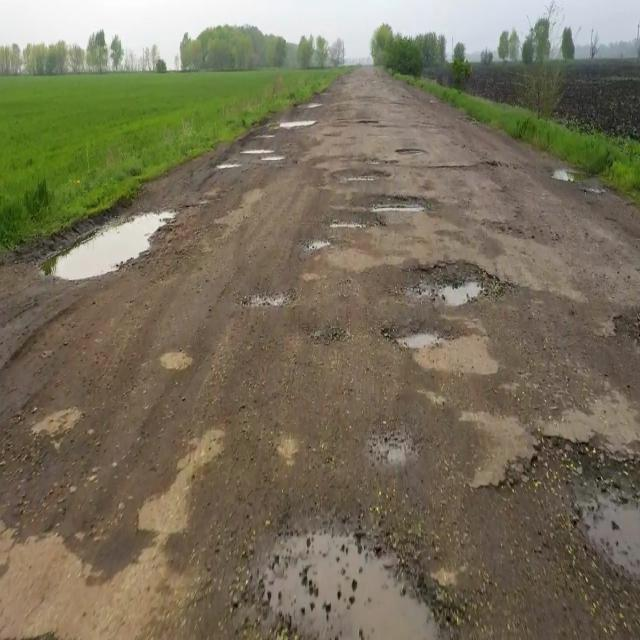Pothole: (178, 506, 484, 640), (509, 428, 640, 640), (33, 198, 186, 288), (376, 266, 503, 360), (305, 181, 428, 242), (190, 130, 284, 176), (386, 136, 431, 172), (260, 106, 316, 130), (364, 88, 376, 140)
